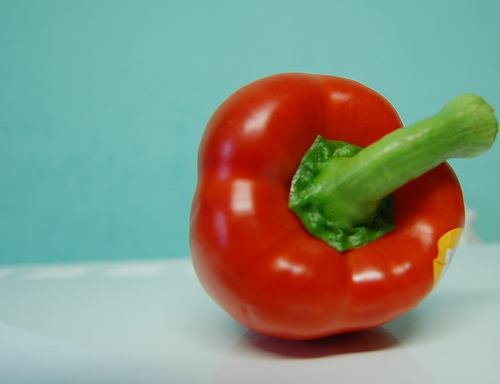capsicum: (188, 72, 498, 344)
